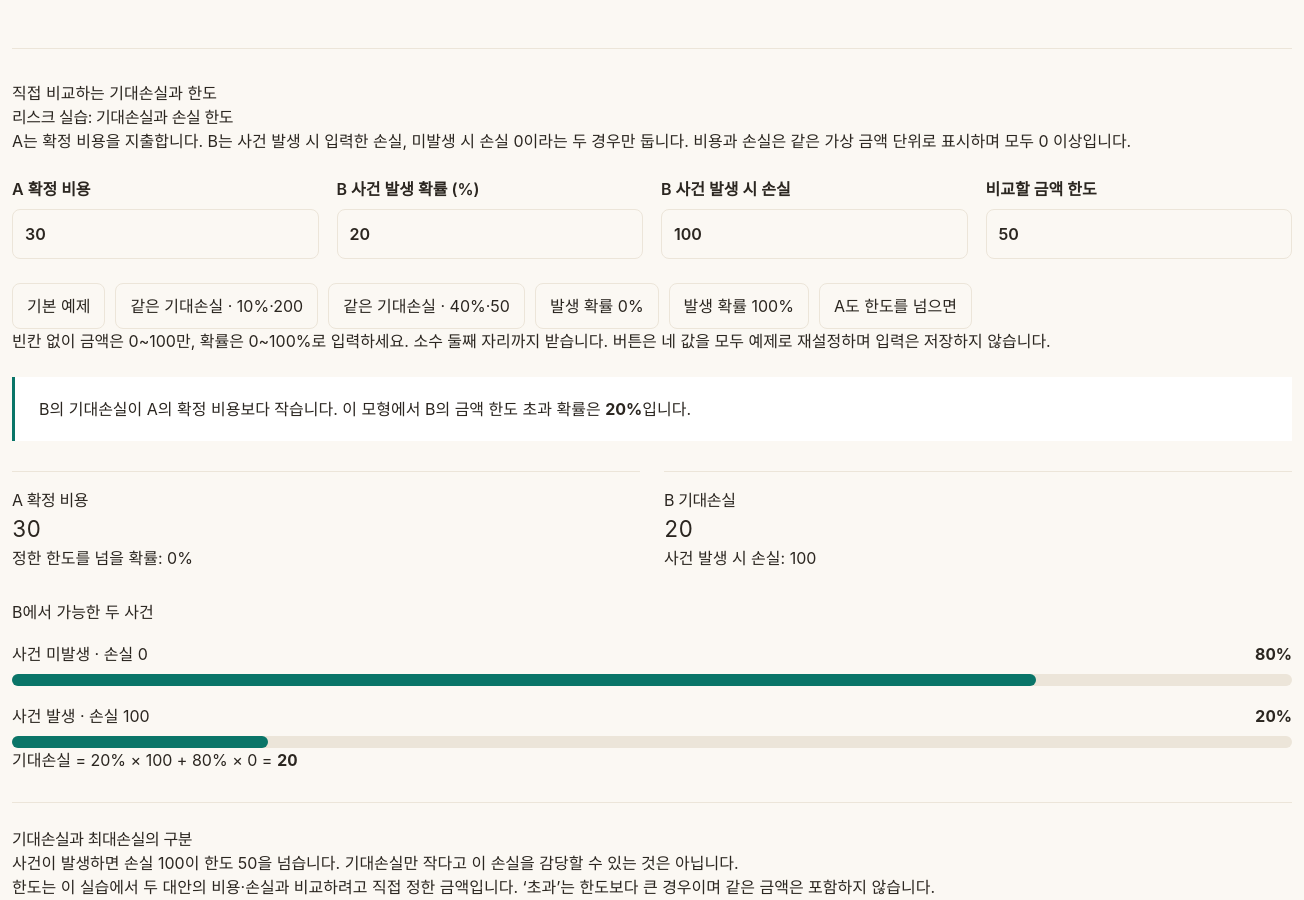
Test case: compares equal expectations with different tails and resets all four values
Expected: the message shows "20%", [12, 377, 1292, 441]
Replace the text in the number field labelled "A 확정 비용" with "90" at (165, 234), box [12, 209, 318, 259]
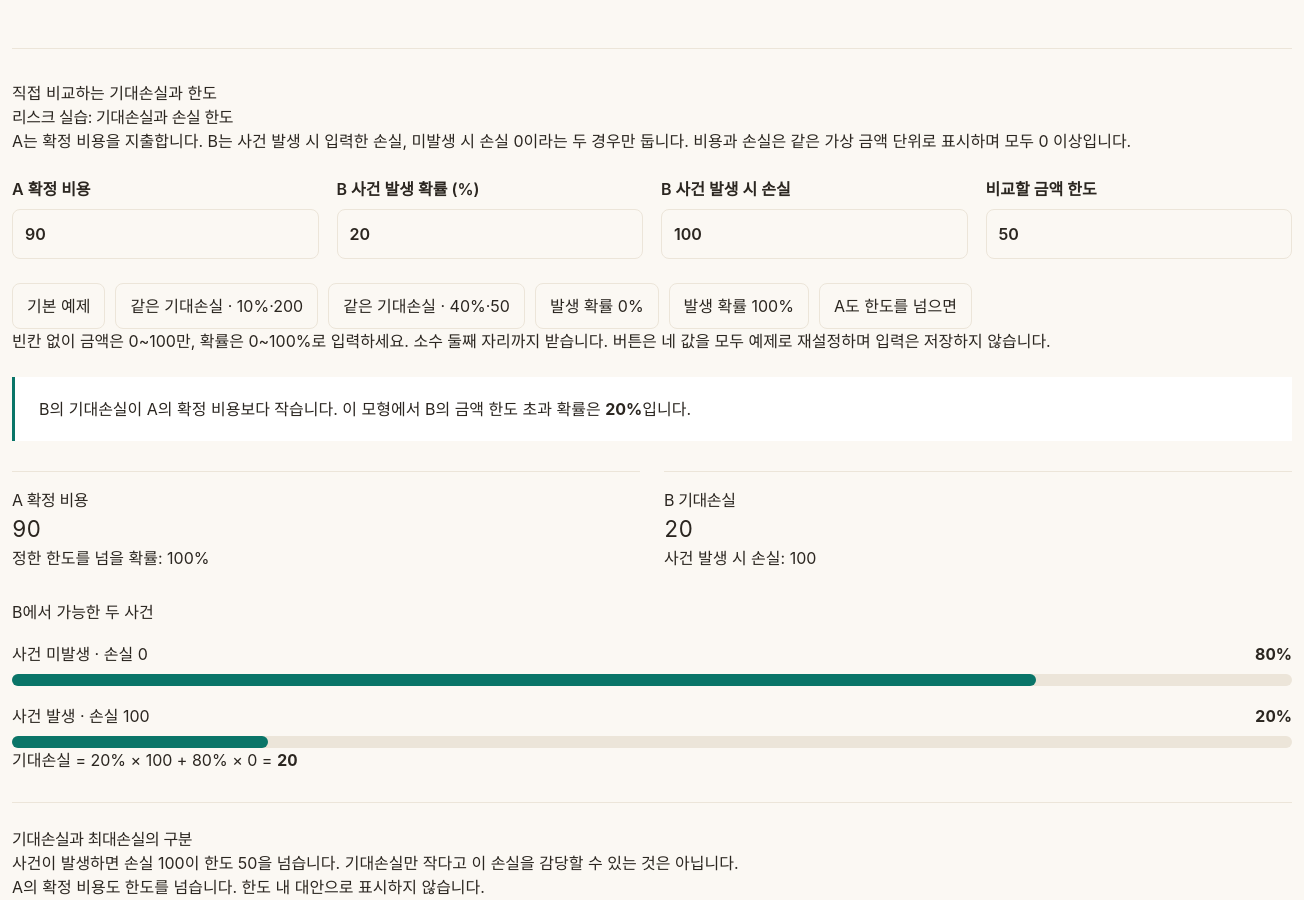
Replace the text in the number field labelled "비교할 금액 한도" with "1" at (1139, 234), box [986, 209, 1292, 259]
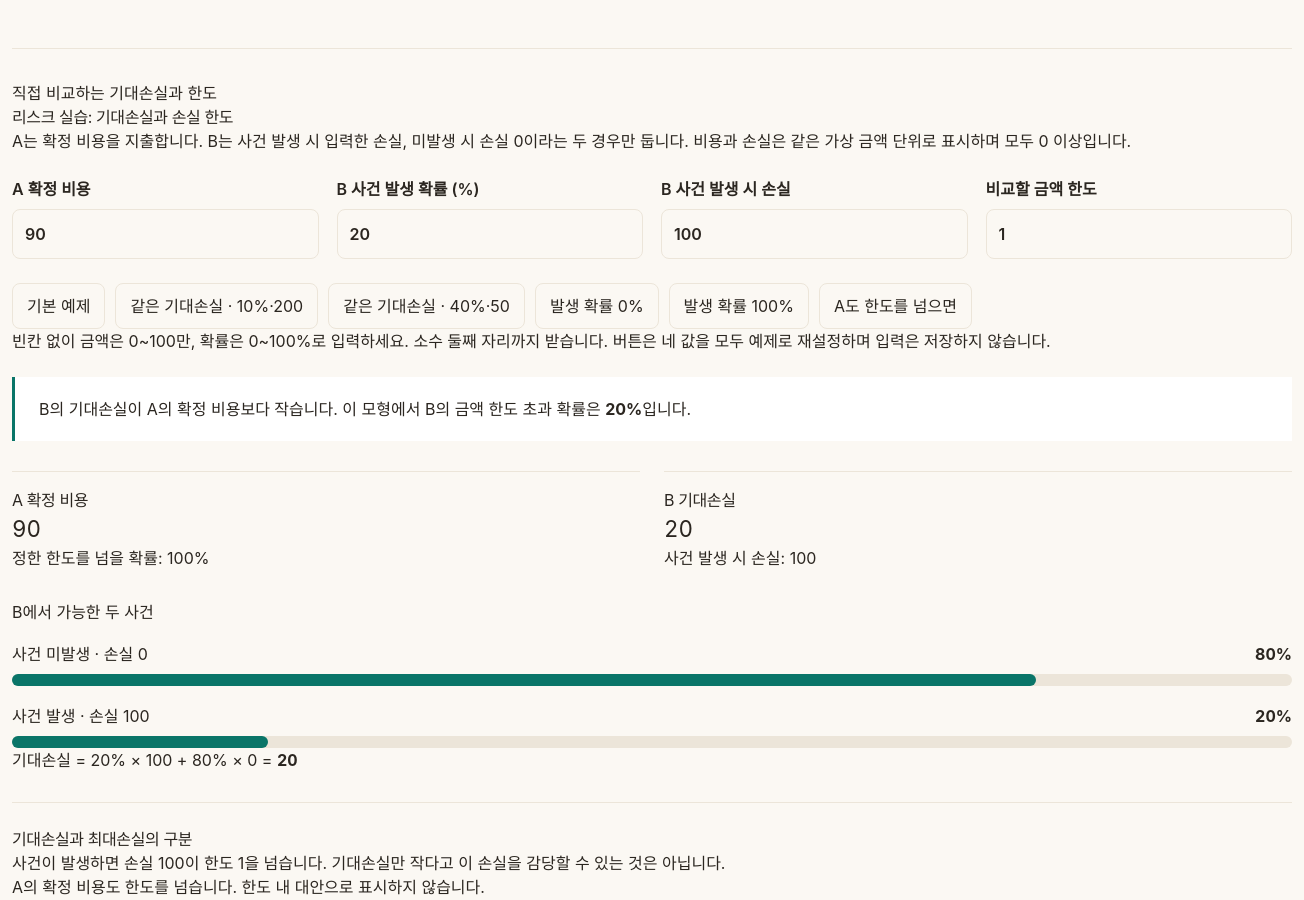
Click the button "같은 기대손실 · 40%·50" at (427, 306), box [328, 283, 525, 329]
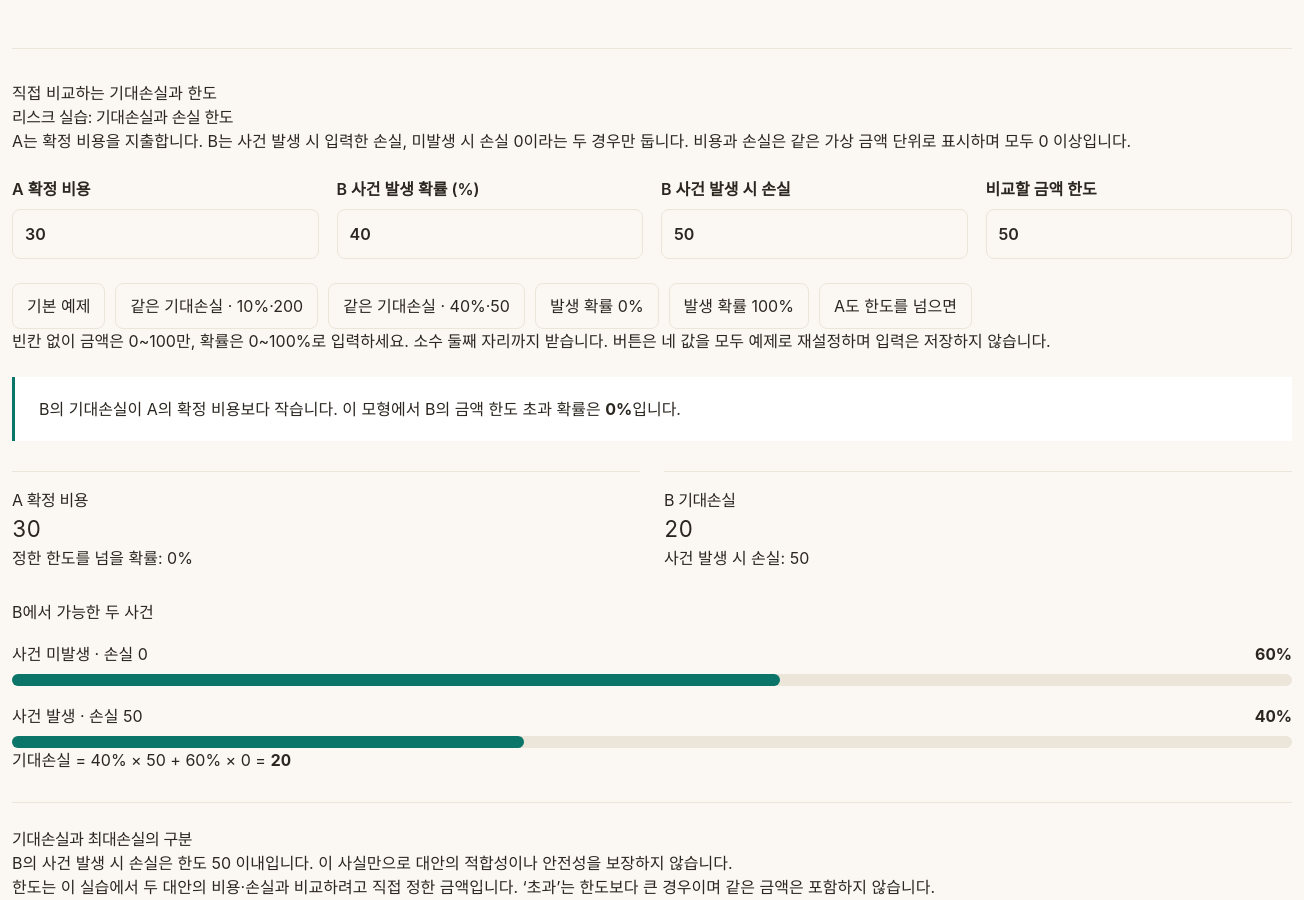
Expected: the message shows "0%", [12, 377, 1292, 441]
Result: the number field labelled "A 확정 비용" holds "30" at [12, 209, 318, 259]
Result: the number field labelled "비교할 금액 한도" holds "50" at [986, 209, 1292, 259]
Click the button "같은 기대손실 · 10%·200" at (217, 306), box [115, 283, 318, 329]
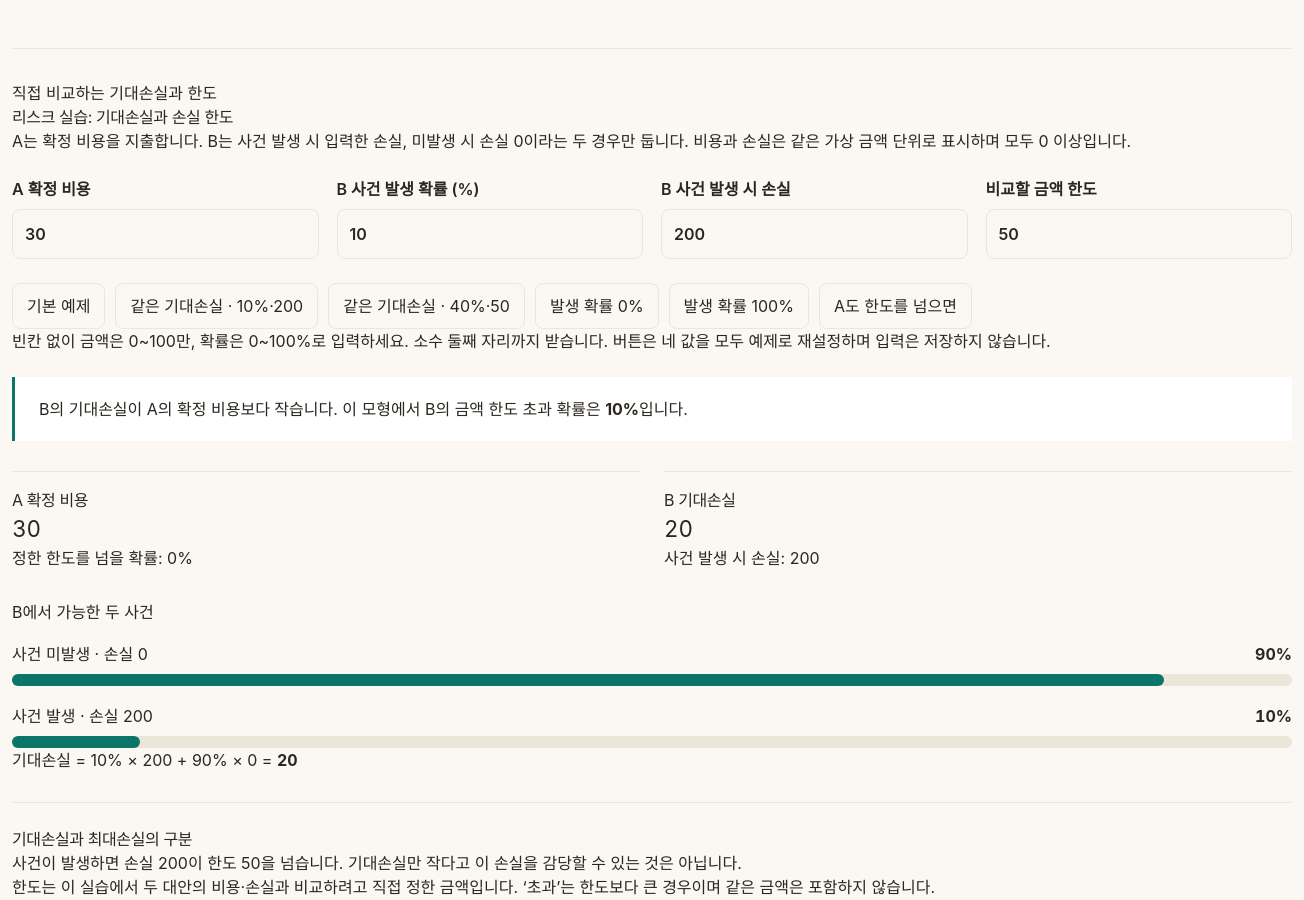
Expected: the text "20" below "B 기대손실" is shown, [664, 515, 693, 542]
Result: the message shows "10%" at [12, 377, 1292, 441]
